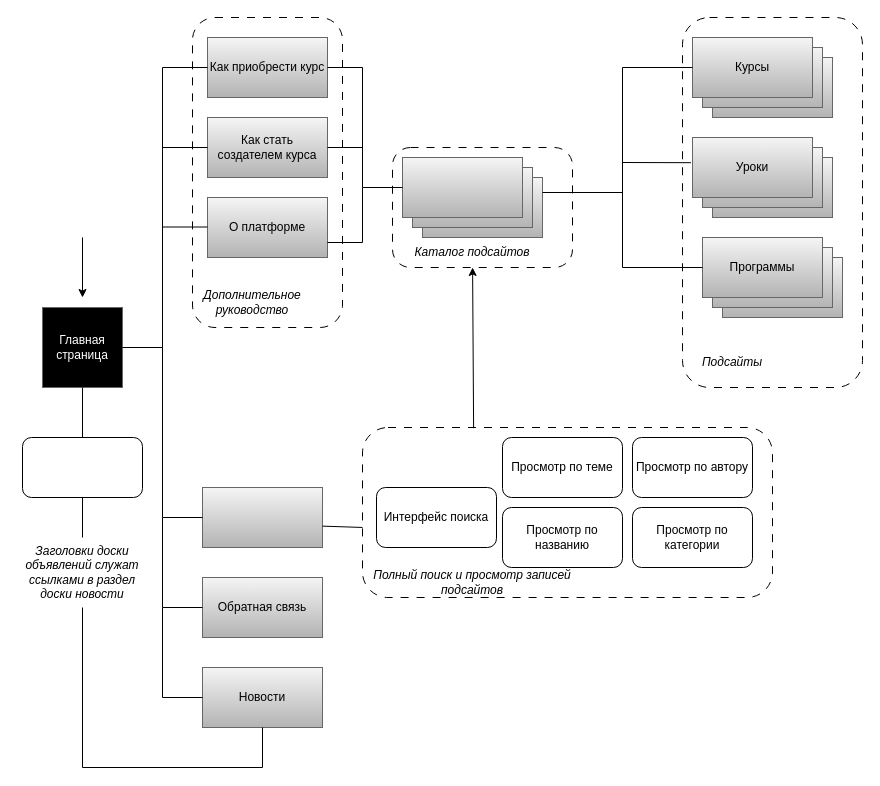
The diagram is 880 pixels wide and 786 high, and some of its shapes have lost their labels. The shapes that lost their labels are listed below. From the top down, each one's centre as x and y in pixels, then its label:
the point at 462,187: Записи подъсайтов
the point at 82,467: Динамическая доска объявлений
the point at 262,517: Поиск и просмотр
